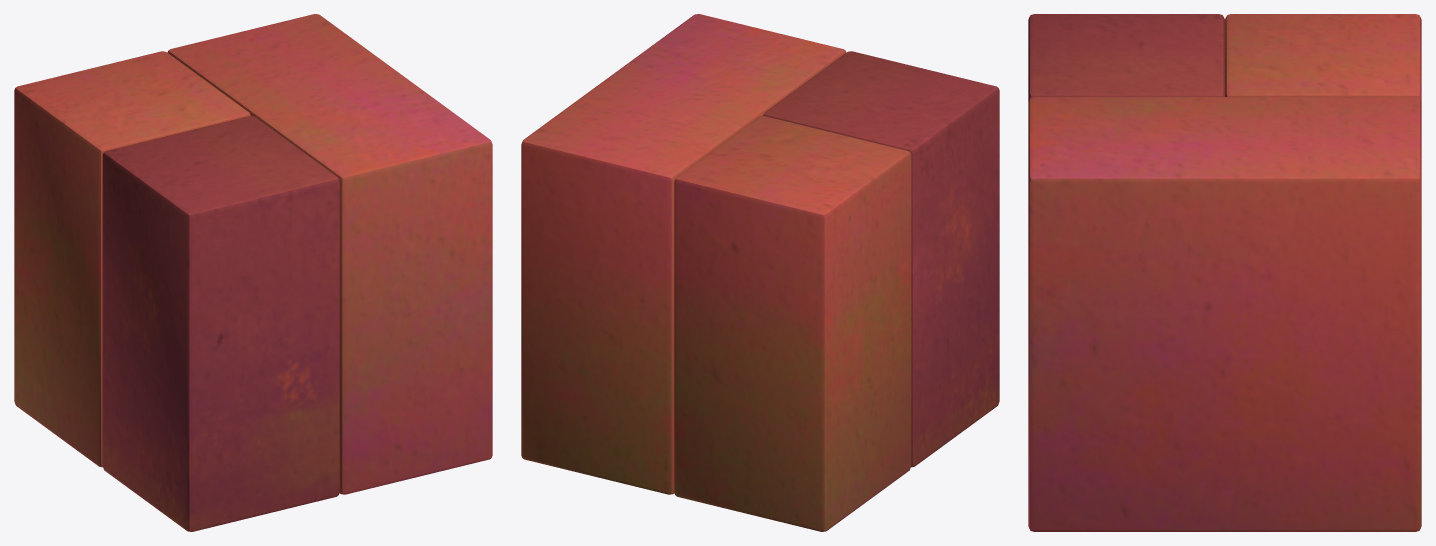
File: TEMPLE_GROUND_002.obj
The picture shows the model from 3 angles, left to right: view 1: azimuth 30°, elevation 25°; view 2: azimuth 150°, elevation 25°; view 3: azimuth 270°, elevation 25°; orthographic projection. The views are drawn at different scales.
Parts seen in each view (by area): view 1: TEMPLE_GROUND_002; view 2: TEMPLE_GROUND_002; view 3: TEMPLE_GROUND_002.
Part boxes in pixels (bbox=[...]): TEMPLE_GROUND_002: bbox=[14, 14, 492, 531]; TEMPLE_GROUND_002: bbox=[521, 14, 999, 531]; TEMPLE_GROUND_002: bbox=[1028, 14, 1421, 531].
Size of the model in its own units: 1 by 1 by 1.
